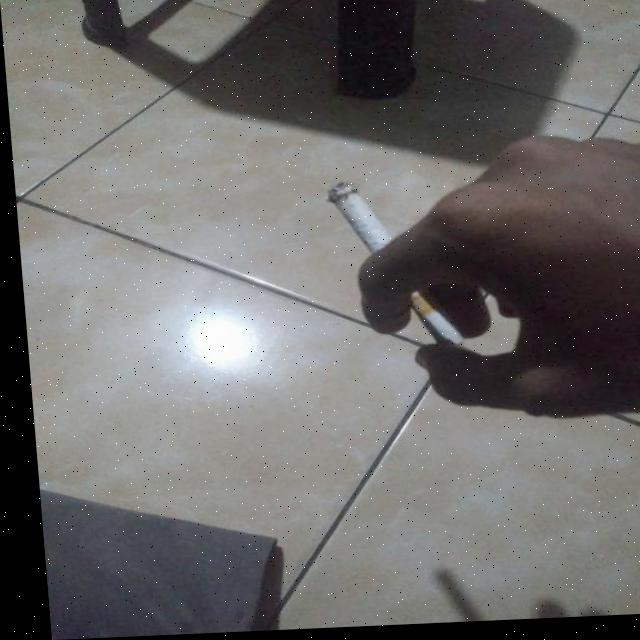cigarette: (325, 180, 459, 356)
